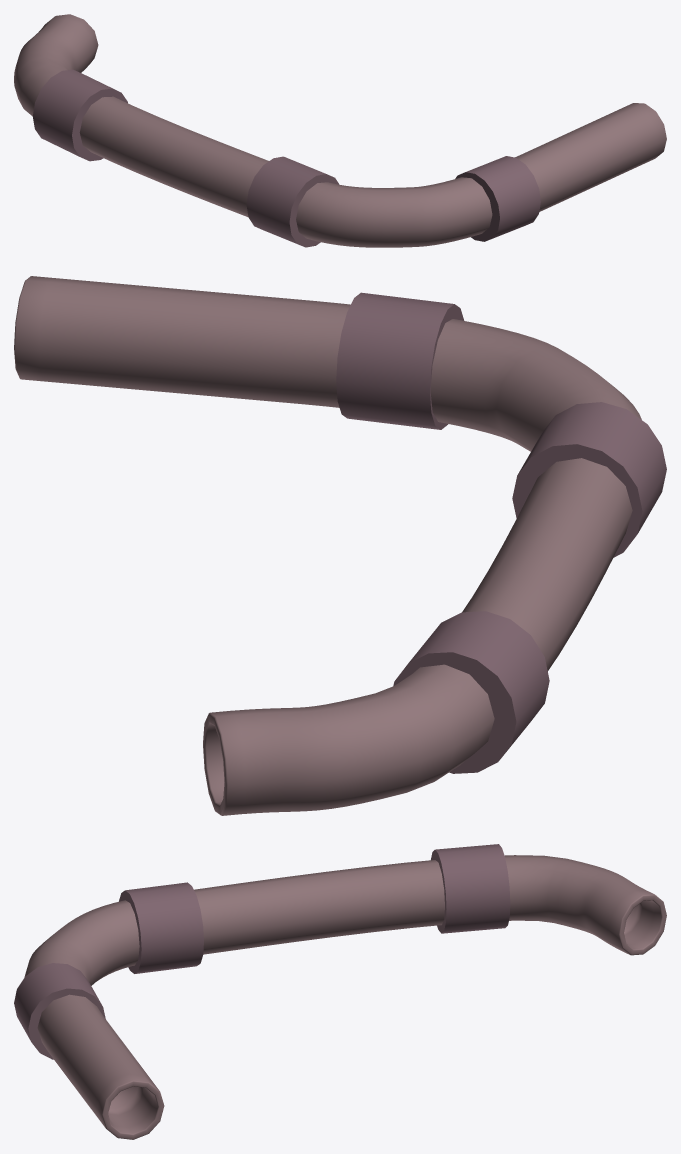
The model's file is pipeA_1.fbx.
The picture shows the model from 3 angles, top to bottom: view 1: azimuth 30°, elevation 25°; view 2: azimuth 150°, elevation 25°; view 3: azimuth 270°, elevation 25°; orthographic projection. The views are drawn at different scales.
Parts seen in each view (by area): view 1: pipeA_1; view 2: pipeA_1; view 3: pipeA_1.
Boxes of the visible parts, <box> form: pipeA_1: <box>14,14,666,247</box>; pipeA_1: <box>14,276,666,815</box>; pipeA_1: <box>14,844,666,1139</box>.
Size of the model in its own units: 299 by 44.56 by 339.
